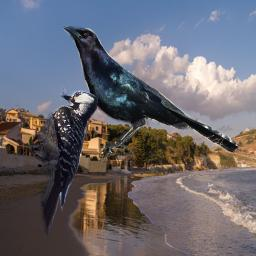Crow: (62, 26, 239, 163)
Woodpecker: (28, 84, 98, 238)
